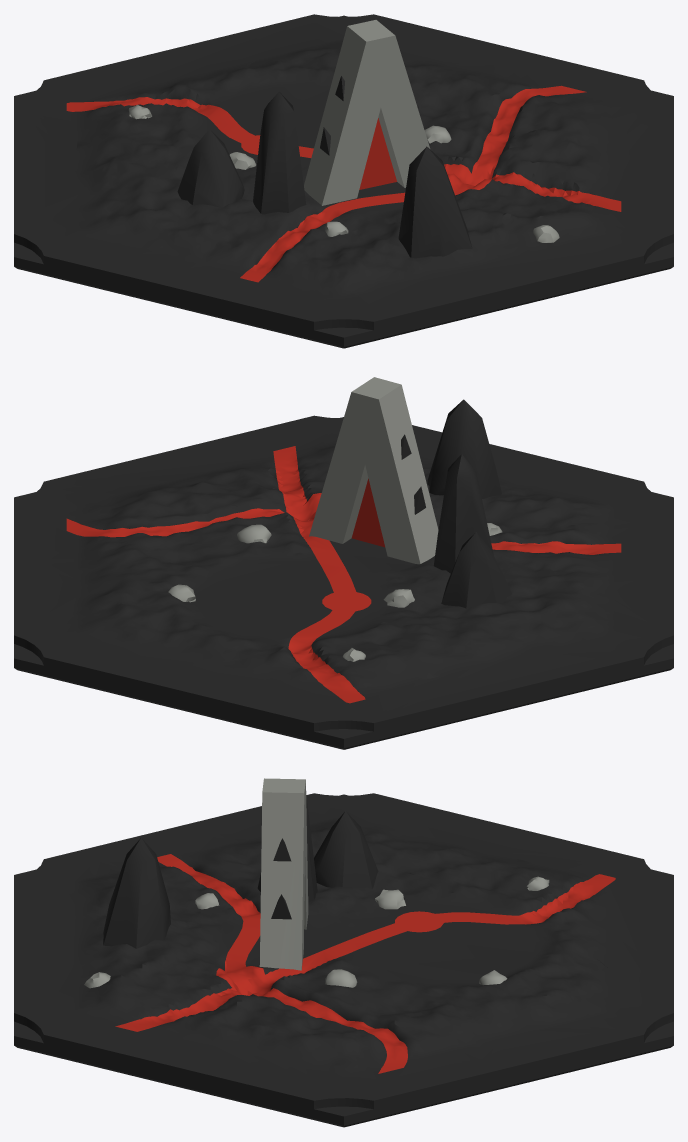
Rendered from schattenland_tor_1.glb.
3 renders of one model, top to bottom at view 1: azimuth 30°, elevation 25°; view 2: azimuth 150°, elevation 25°; view 3: azimuth 270°, elevation 25°, orthographic.
Parts seen in each view (by area): view 1: schattenland_tor_1; view 2: schattenland_tor_1; view 3: schattenland_tor_1.
Boxes of the visible parts, x1,y1,x2,y2 form: schattenland_tor_1: (14, 14, 673, 348); schattenland_tor_1: (14, 377, 673, 749); schattenland_tor_1: (14, 778, 673, 1127).
Size of the model in its own units: 65.24 by 17.1 by 56.5.
